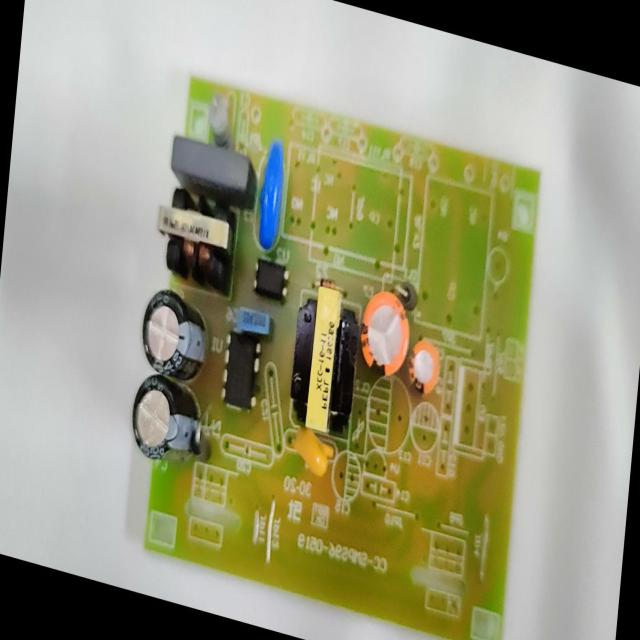Cap1: (355, 279, 414, 388)
Cap2: (405, 330, 444, 402)
Cap3: (134, 277, 214, 392)
Cap4: (126, 366, 206, 478)
MOSFET: (217, 323, 266, 420)
Mov: (252, 129, 290, 260)
Resistor: (203, 89, 236, 147)
Transformer: (284, 276, 362, 443), (148, 180, 240, 291)
